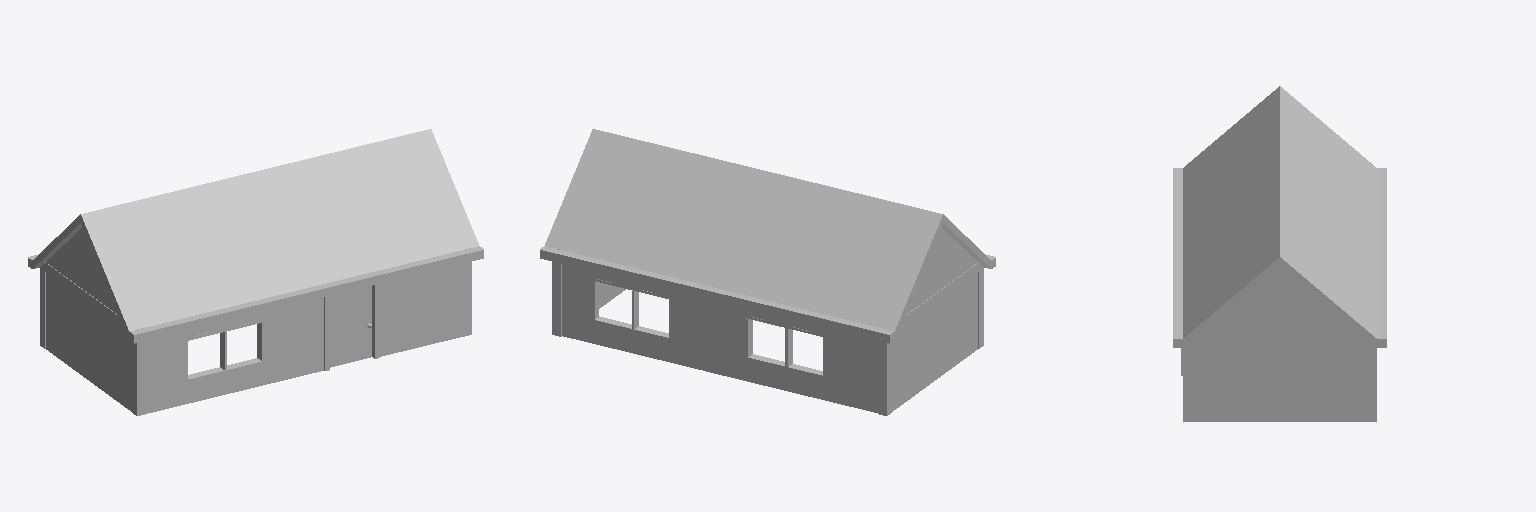
The model's file is LongHouse.obj.
The picture shows the model from 3 angles: view 1: azimuth 30°, elevation 25°; view 2: azimuth 150°, elevation 25°; view 3: azimuth 270°, elevation 25°; orthographic projection.
Size of the model in its own units: 42 by 19.38 by 22.12.